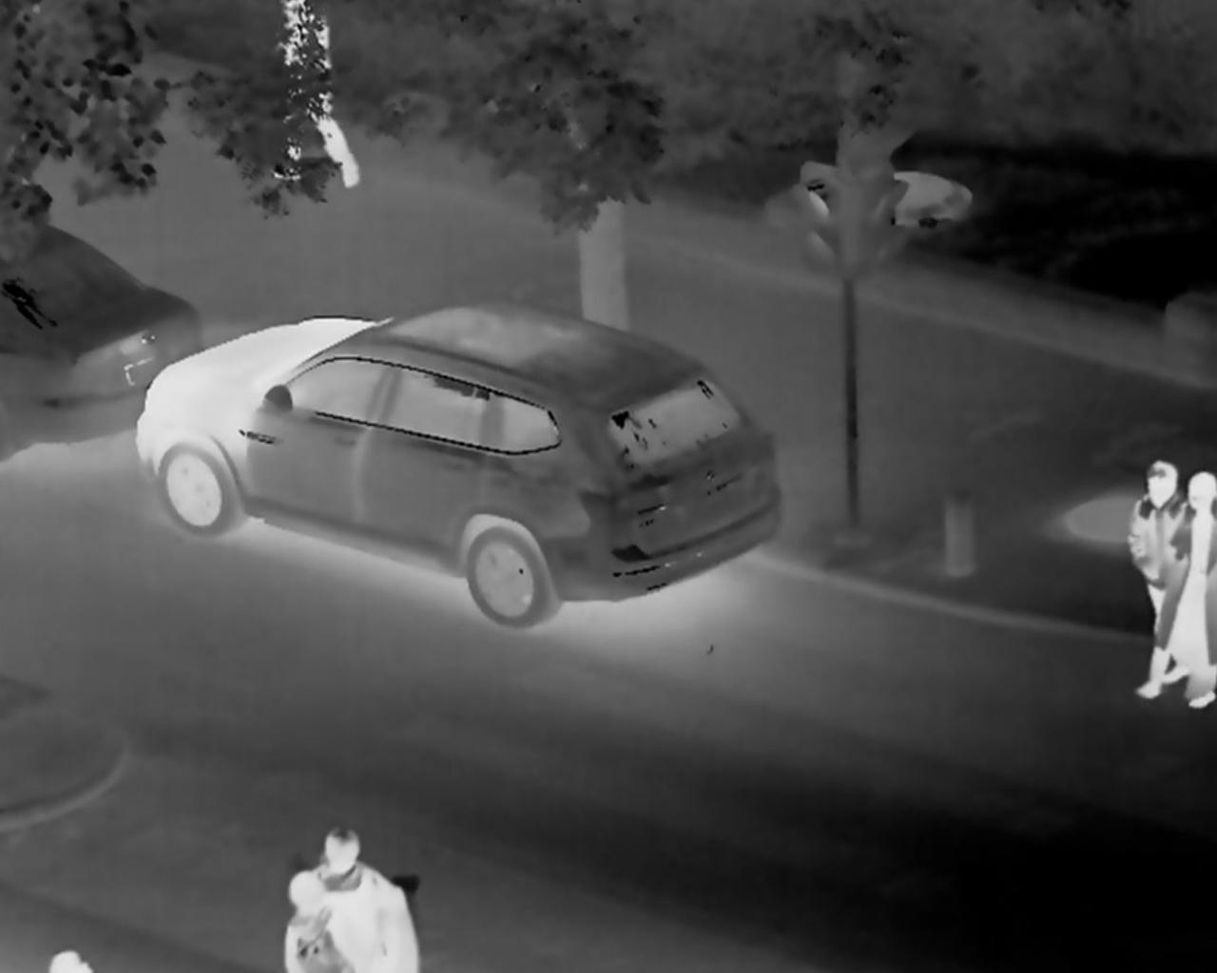person: (294, 844, 435, 973), (1119, 439, 1176, 706), (279, 7, 365, 177), (1180, 450, 1217, 753)
